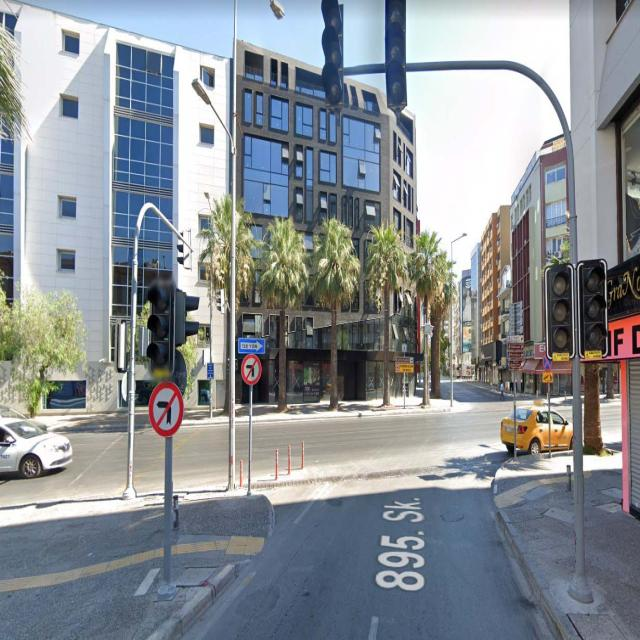soladonulmez: (151, 382, 183, 438), (242, 356, 262, 385)
